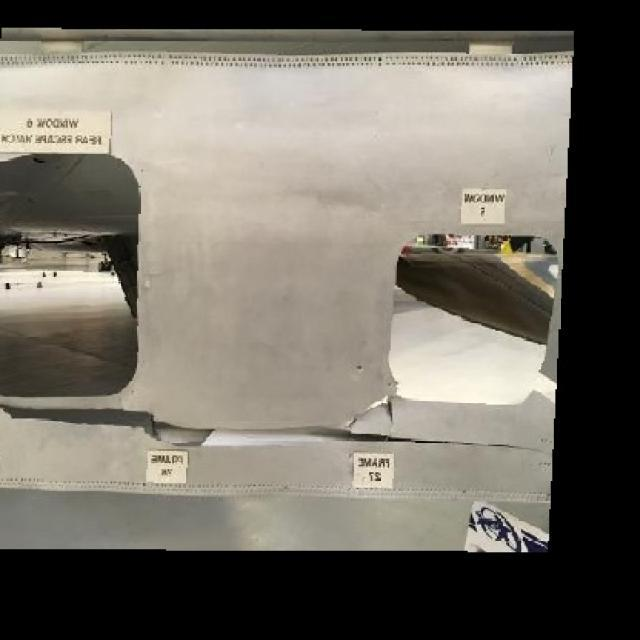crack: (393, 437, 555, 452)
